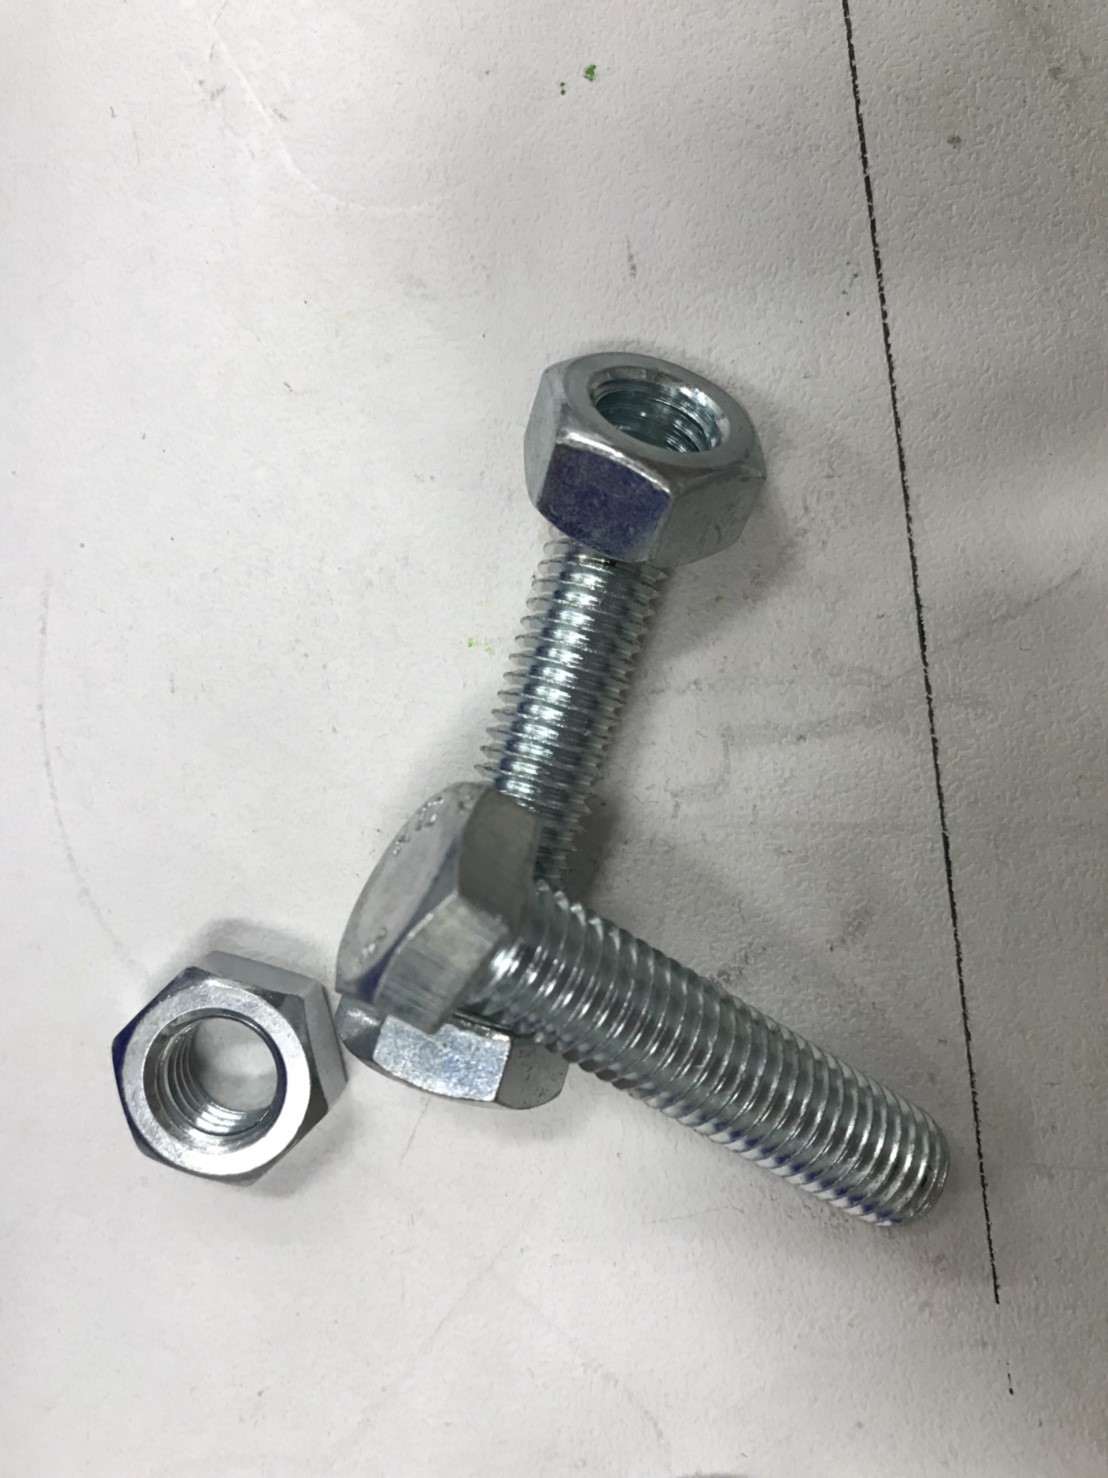nut: (513, 325, 776, 568), (102, 940, 342, 1193)
screw: (336, 763, 966, 1242), (341, 474, 662, 1146)
